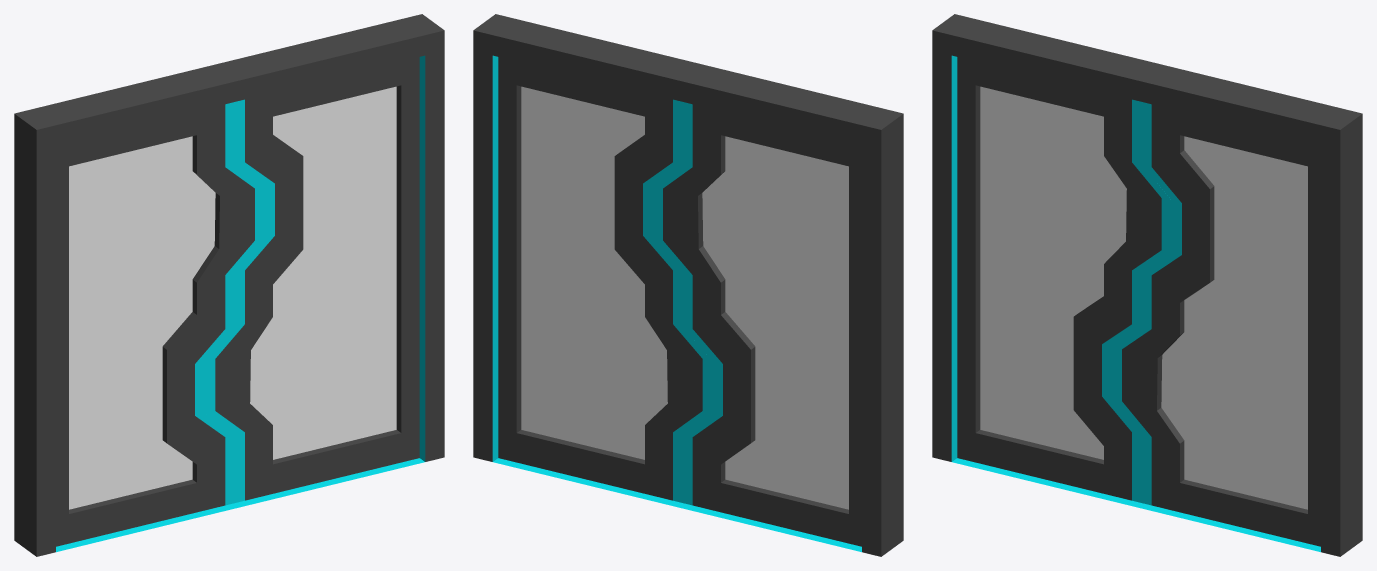
The model's file is Door.fbx.
The picture shows the model from 3 angles, left to right: view 1: azimuth 30°, elevation 25°; view 2: azimuth 150°, elevation 25°; view 3: azimuth 330°, elevation 25°; orthographic projection.
Visible parts, largest first — view 1: Right, Left, Frame; view 2: Right, Left, Frame; view 3: Left, Right, Frame.
Boxes of the visible parts, x1,y1,x2,y2 form: Right: [205, 57, 419, 502]; Left: [56, 102, 264, 546]; Frame: [14, 14, 444, 556]; Right: [498, 57, 712, 502]; Left: [653, 102, 861, 546]; Frame: [473, 14, 903, 556]; Left: [957, 57, 1171, 502]; Right: [1112, 102, 1320, 546]; Frame: [932, 14, 1362, 556].
Bounding box in the file's own units: 82.68 × 82.68 × 7.87.
